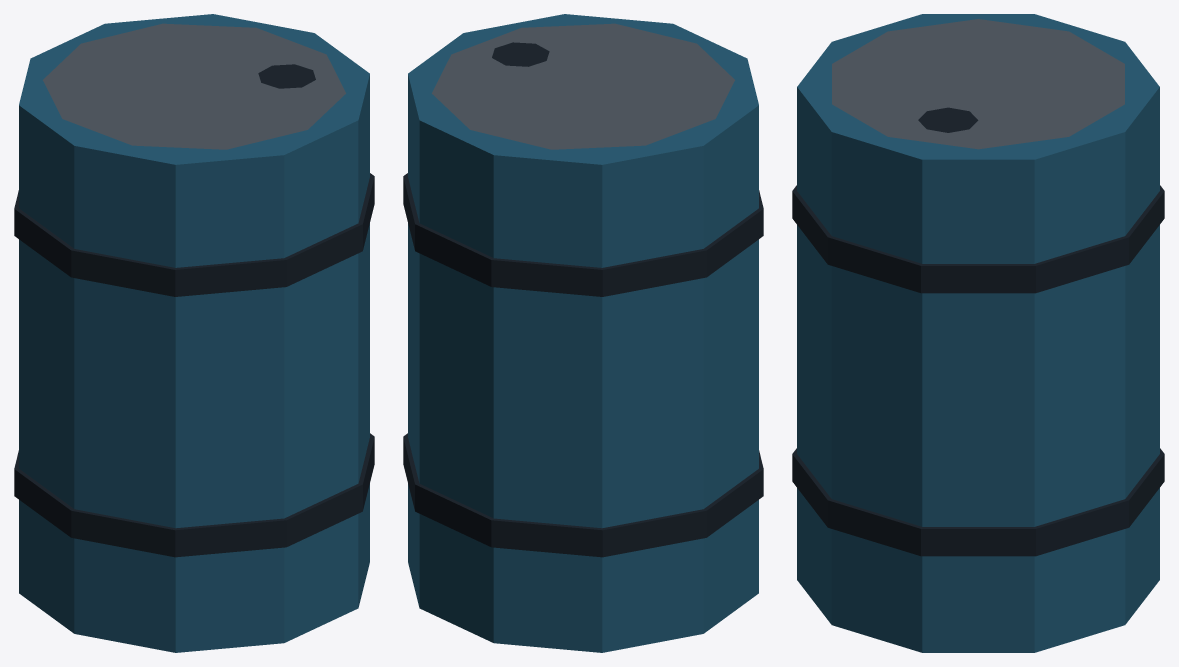
Rendered from barril_azul.glb.
The picture shows the model from 3 angles, left to right: view 1: azimuth 30°, elevation 25°; view 2: azimuth 150°, elevation 25°; view 3: azimuth 270°, elevation 25°; orthographic projection.
Parts seen in each view (by area): view 1: barril_azul_malha; view 2: barril_azul_malha; view 3: barril_azul_malha.
Part boxes in pixels (bbox=[...]): barril_azul_malha: bbox=[14, 14, 374, 652]; barril_azul_malha: bbox=[403, 14, 763, 652]; barril_azul_malha: bbox=[792, 14, 1164, 652].
Size of the model in its own units: 0.5859 by 0.909 by 0.616.
